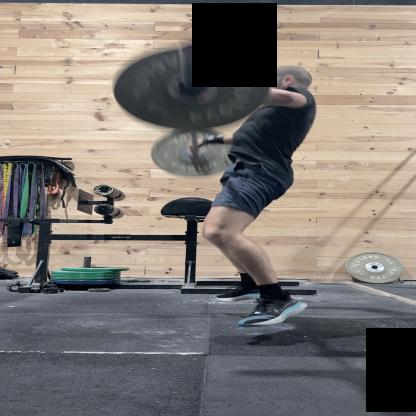barbell: (114, 48, 272, 132)
